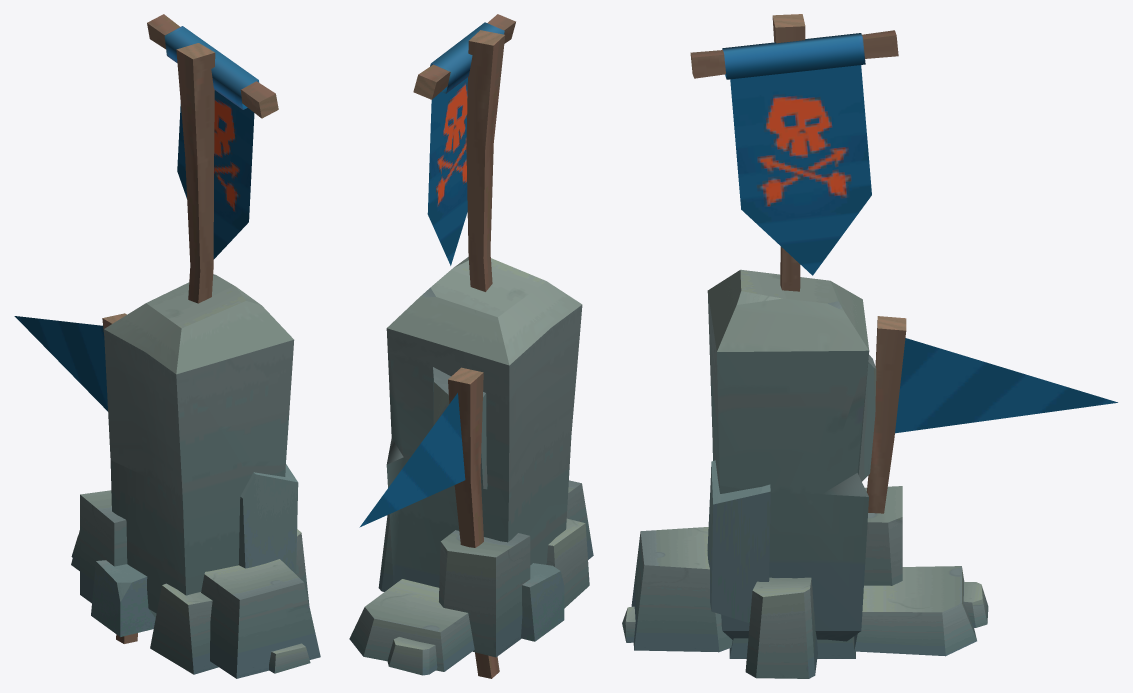
The model's file is Wall1B-001_40_07_1380.fbx.
3 views of the same model, side by side, from view 1: azimuth 30°, elevation 25°; view 2: azimuth 150°, elevation 25°; view 3: azimuth 270°, elevation 25° (orthographic). The views are drawn at different scales.
Parts seen in each view (by area): view 1: Monolith1 (2), Wall1 (1), Wood1.002 (1), Flag2 (2), Flag1.001 (1), ClothTop3 (2), WoodTop (2); view 2: Monolith1 (2), Wood1.002 (1) (×2), Wall1 (1), Flag2 (2), Flag1.001 (1), ClothTop3 (2), WoodTop (2); view 3: Monolith1 (2), Flag2 (2), Wall1 (1), Flag1.001 (1), Wood1.002 (1) (×2), ClothTop3 (2), WoodTop (2).
Boxes of the visible parts, left/top/right/bottom form: Monolith1 (2): left=80, top=274, right=309, bottom=674; Wall1 (1): left=71, top=530, right=320, bottom=678; Wood1.002 (1): left=176, top=43, right=215, bottom=303; Flag2 (2): left=177, top=90, right=254, bottom=259; Flag1.001 (1): left=14, top=316, right=107, bottom=411; ClothTop3 (2): left=164, top=26, right=259, bottom=109; WoodTop (2): left=147, top=14, right=278, bottom=118; Monolith1 (2): left=378, top=257, right=589, bottom=657; Wood1.002 (1) (×2): left=448, top=30, right=505, bottom=678; Wall1 (1): left=349, top=480, right=593, bottom=675; Flag2 (2): left=427, top=77, right=467, bottom=265; Flag1.001 (1): left=359, top=393, right=465, bottom=527; ClothTop3 (2): left=430, top=22, right=504, bottom=93; WoodTop (2): left=413, top=14, right=515, bottom=99; Monolith1 (2): left=707, top=269, right=902, bottom=678; Flag2 (2): left=730, top=65, right=871, bottom=275; Wall1 (1): left=622, top=527, right=988, bottom=658; Flag1.001 (1): left=895, top=338, right=1117, bottom=433; Wood1.002 (1) (×2): left=772, top=14, right=906, bottom=513; ClothTop3 (2): left=722, top=33, right=865, bottom=79; WoodTop (2): left=690, top=30, right=898, bottom=78.
Bounding box in the file's own units: 1.87 × 6.15 × 4.29.
